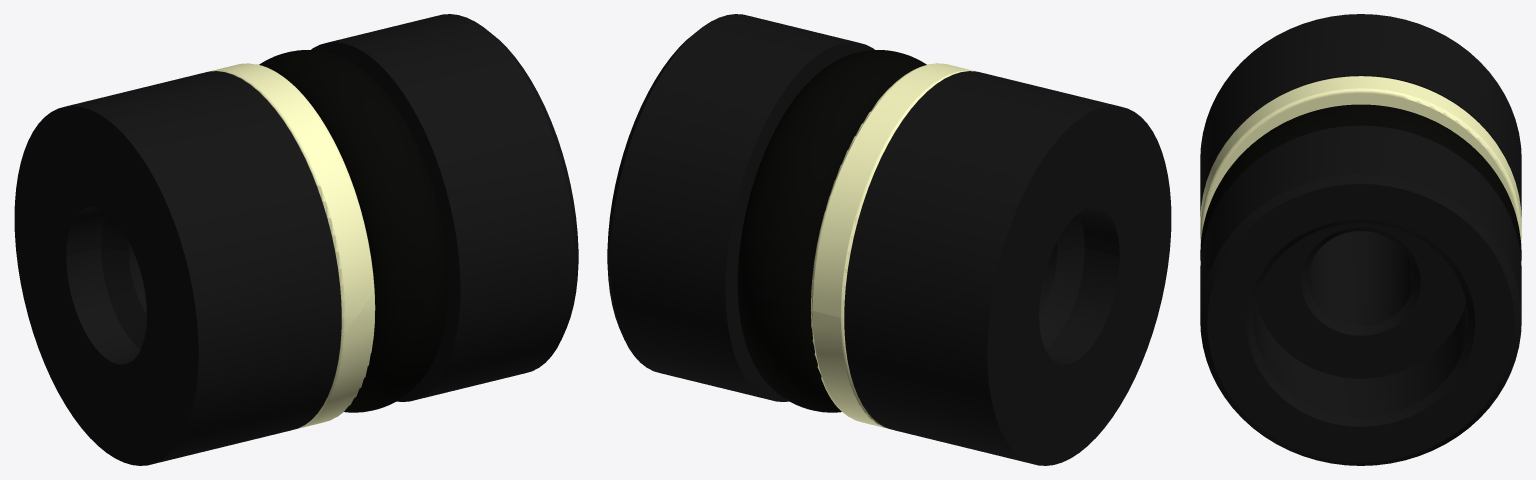
File: STEP5_ASSEM.fbx
The picture shows the model from 3 angles, left to right: view 1: azimuth 30°, elevation 25°; view 2: azimuth 150°, elevation 25°; view 3: azimuth 270°, elevation 25°; orthographic projection. The views are drawn at different scales.
Visible parts, largest first — view 1: empty_2, empty_3, empty_4; view 2: empty_2, empty_3, empty_4; view 3: empty_2, empty_4, empty_3.
Part boxes in pixels (left/top/right/bottom): empty_2: left=14, top=14, right=578, bottom=465; empty_3: left=259, top=50, right=448, bottom=412; empty_4: left=209, top=63, right=375, bottom=428; empty_2: left=607, top=14, right=1171, bottom=465; empty_3: left=737, top=50, right=926, bottom=412; empty_4: left=811, top=63, right=976, bottom=428; empty_2: left=1200, top=14, right=1521, bottom=465; empty_4: left=1200, top=76, right=1521, bottom=242; empty_3: left=1200, top=104, right=1521, bottom=260.
Bounding box in the file's own units: 11 × 9.14 × 9.14.
